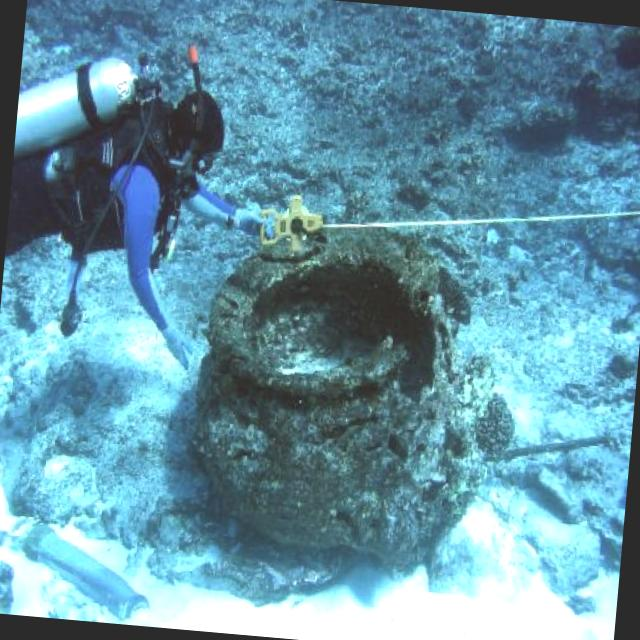Person: (0, 71, 285, 374)
